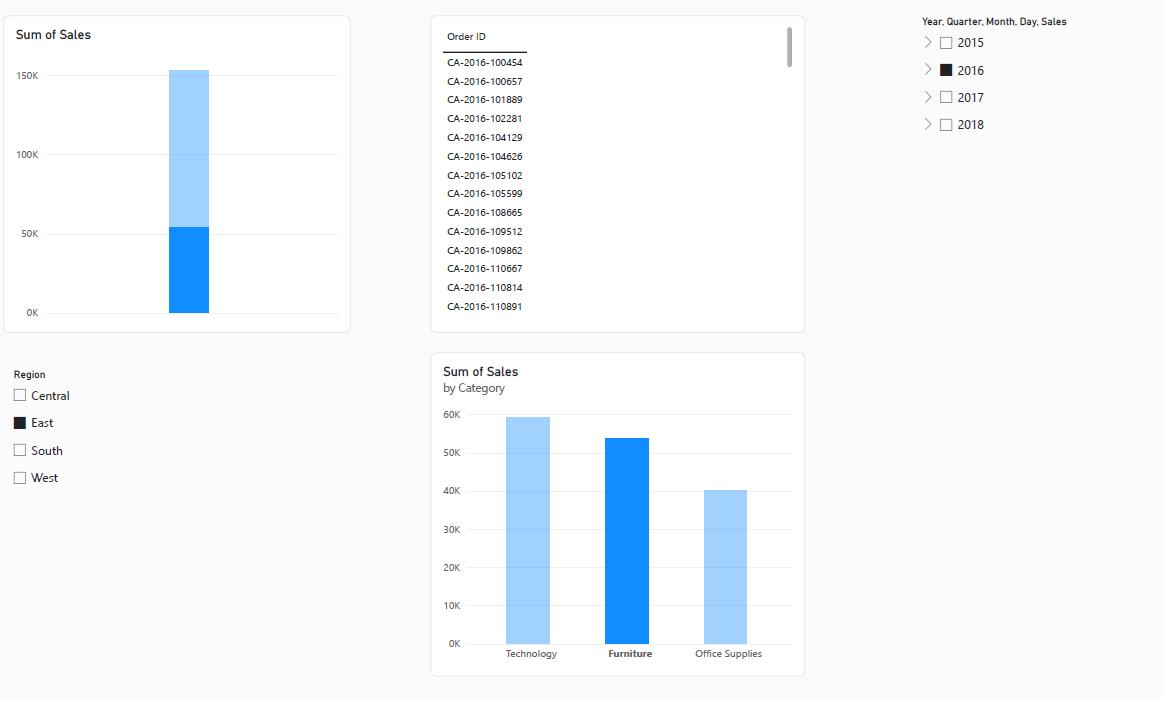

This screenshot's page, from the dashboard's own definition file:
{"tool":"powerbi","page":{"name":"Page 1","canvas":[1920,1080],"ordinal":0},"visuals":[{"type":"clusteredColumnChart","fields":{"Y":["Sum(train.Sales)"]},"box":[20.6,20.6,481.6,440.5],"z":1000},{"type":"tableEx","fields":{"Values":["train.Order ID"]},"box":[613.4,20.6,518.7,440.5],"z":2000},{"type":"clusteredColumnChart","fields":{"Category":["train.Category"],"Y":["Sum(train.Sales)"]},"box":[613.4,487.8,518.7,448.7],"z":3000},{"type":"slicer","fields":{"Values":["train.Order Date.Variation.Date Hierarchy.Year","train.Order Date.Variation.Date Hierarchy.Quarter","train.Order Date.Variation.Date Hierarchy.Month","train.Order Date.Variation.Date Hierarchy.Day","train.Sales"]},"box":[1286.5,20.6,456.9,461.1],"z":4000},{"type":"slicer","fields":{"Values":["train.Region"]},"box":[26.8,510.5,475.5,426.1],"z":4001}]}

Visuals, with their boxes on the page's 1920x1080 design canvas (x1, y1, x2, y2). These are canvas units, not pixel positions in the 1165x713 screenshot, which may show the page scaled, cropped or inside an application window:
clusteredColumnChart - Sum(train.Sales): box=[21, 21, 502, 461]
tableEx - train.Order ID: box=[613, 21, 1132, 461]
clusteredColumnChart - train.Category x Sum(train.Sales): box=[613, 488, 1132, 936]
slicer - train.Order Date.Variation.Date Hierarchy.Year x train.Order Date.Variation.Date Hierarchy.Quarter: box=[1286, 21, 1743, 482]
slicer - train.Region: box=[27, 510, 502, 937]
